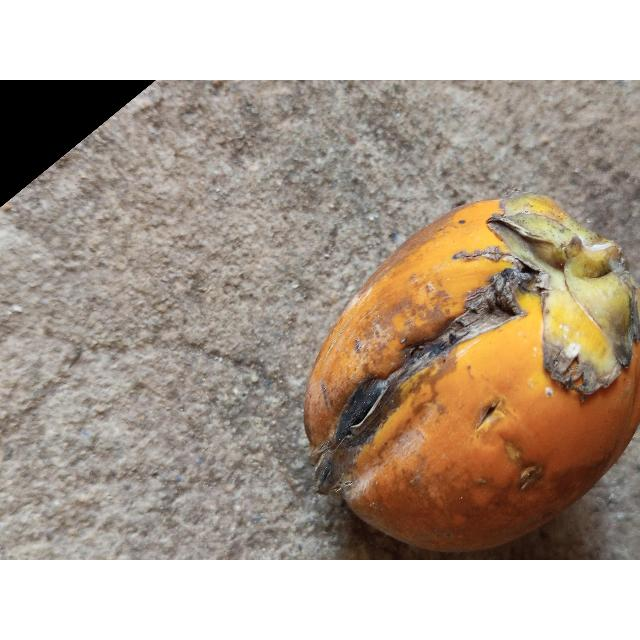damaged: (303, 196, 640, 557)
